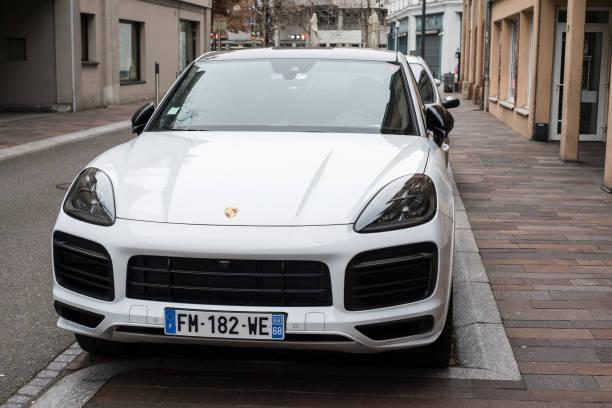porsche: (220, 204, 244, 223)
